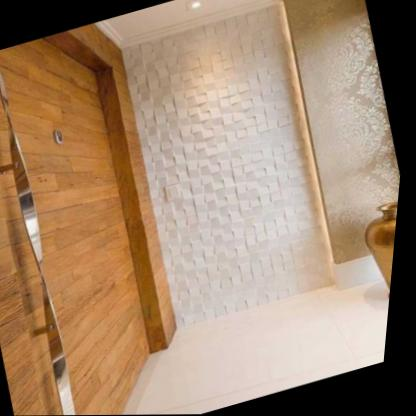Futech tiles: (110, 13, 352, 323)
